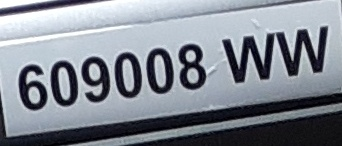0: (112, 48, 145, 99), (145, 42, 175, 96), (49, 56, 78, 108)
6: (13, 60, 49, 112)
8: (177, 39, 208, 91)
9: (79, 56, 109, 104)
w: (272, 24, 333, 80), (220, 29, 277, 85)
